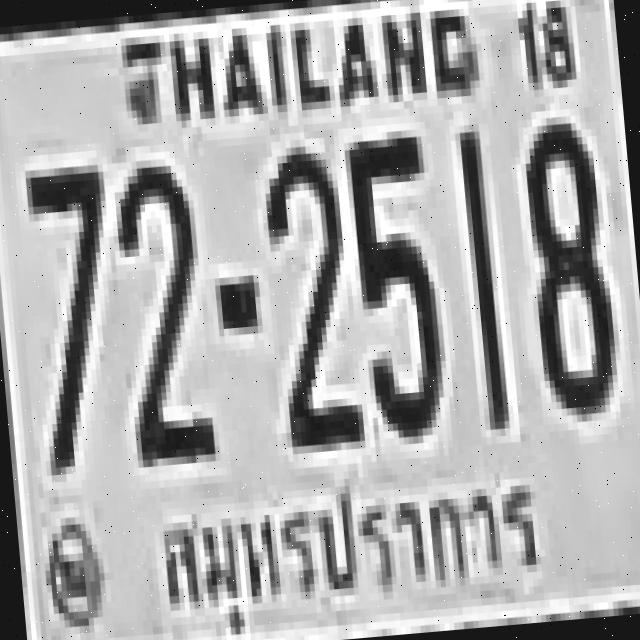1: (454, 124, 504, 423)
2: (110, 160, 212, 464), (259, 140, 357, 444), (106, 156, 208, 432), (259, 140, 355, 422)
5: (342, 126, 442, 437)
7: (19, 157, 123, 468)
8: (516, 114, 614, 410)
SamutPrakan: (137, 450, 563, 640)
